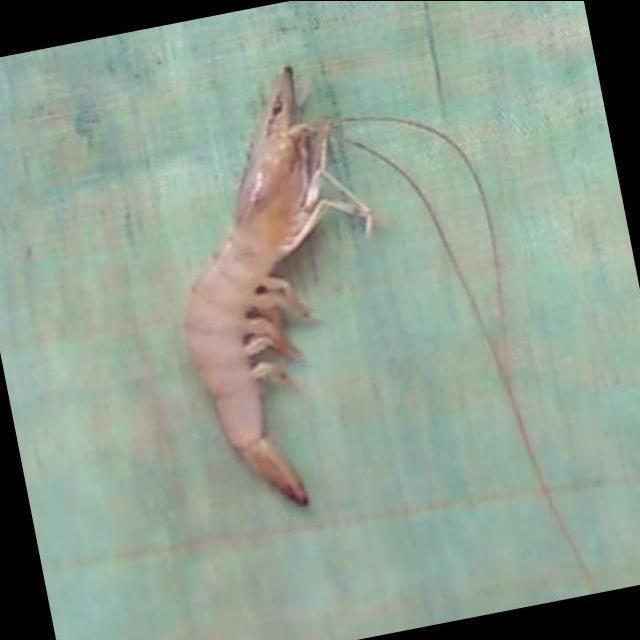shrimp: (184, 65, 373, 507)
